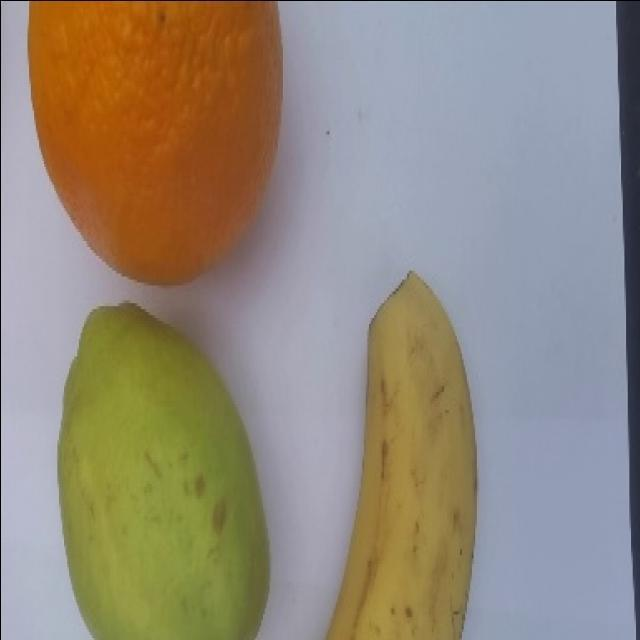Banana: (324, 269, 477, 639)
Orange: (26, 0, 284, 285)
